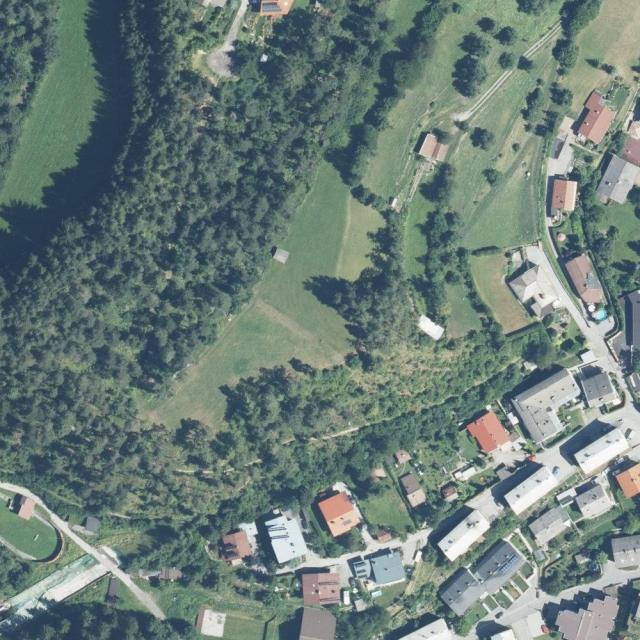building: (509, 367, 594, 446), (507, 262, 565, 323), (468, 537, 527, 595), (435, 508, 494, 564), (503, 463, 561, 516), (572, 426, 631, 477), (572, 88, 620, 147), (347, 545, 407, 592), (436, 566, 488, 618), (563, 252, 609, 309), (263, 511, 310, 565), (316, 490, 363, 539), (525, 503, 574, 548), (466, 410, 511, 456), (573, 482, 616, 524), (580, 371, 619, 410), (214, 528, 254, 565), (396, 471, 429, 509), (303, 572, 340, 605), (418, 132, 452, 166), (399, 619, 451, 639), (551, 178, 578, 216), (611, 535, 640, 569), (414, 312, 446, 342), (199, 609, 229, 640), (615, 464, 640, 500), (6, 493, 37, 522), (438, 482, 460, 504), (159, 566, 183, 581), (272, 247, 291, 265), (83, 516, 100, 533), (490, 629, 516, 640), (396, 449, 412, 464)
greenland: (67, 287, 576, 561), (137, 160, 432, 495), (351, 3, 508, 209), (319, 0, 460, 189), (303, 207, 465, 367), (563, 164, 628, 272), (98, 518, 208, 576), (179, 558, 285, 616), (421, 165, 456, 324), (124, 530, 211, 581), (456, 508, 523, 574), (0, 499, 64, 565), (356, 481, 418, 546), (525, 81, 576, 156), (534, 546, 605, 599), (396, 558, 450, 625), (447, 30, 497, 100), (146, 577, 209, 626), (406, 446, 457, 495), (66, 574, 120, 620), (104, 581, 147, 625), (559, 0, 604, 39), (412, 503, 473, 531), (515, 84, 551, 124), (348, 181, 389, 215), (561, 530, 604, 560), (548, 34, 583, 70), (348, 473, 386, 506), (449, 429, 483, 462), (223, 616, 265, 640), (576, 514, 601, 537), (469, 469, 498, 488), (593, 549, 611, 567), (447, 1, 463, 16), (500, 26, 514, 43), (595, 511, 612, 524), (457, 446, 465, 454)
metalled_road: (516, 232, 635, 375), (0, 548, 110, 631), (598, 393, 640, 450), (534, 441, 579, 486), (393, 521, 434, 569), (587, 554, 640, 591), (496, 593, 540, 635), (465, 486, 507, 529), (521, 584, 562, 616), (329, 558, 358, 590)
unmetalled_road: (451, 67, 517, 126), (203, 0, 250, 80), (522, 21, 565, 62)
